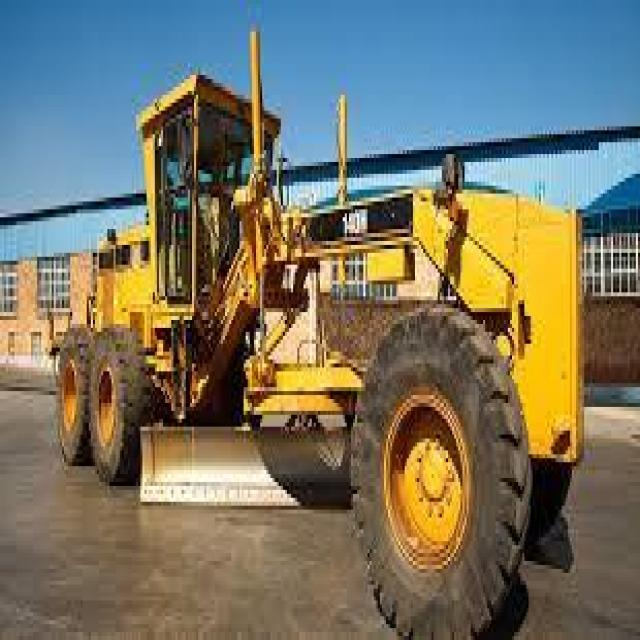Grader: (43, 55, 605, 636)
